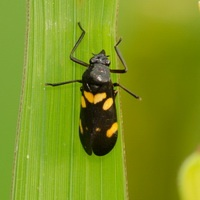insect: (46, 22, 139, 155)
